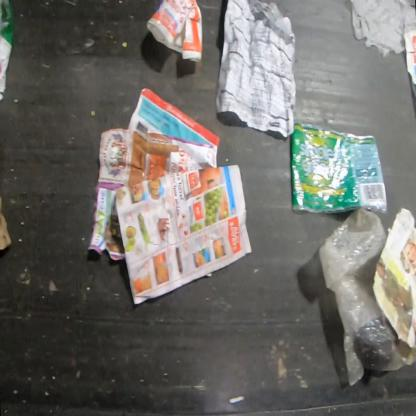cardboard: (0, 206, 13, 254)
rigid_plastic: (144, 0, 204, 64)
soft_plastic: (318, 206, 415, 389), (290, 121, 388, 217), (0, 0, 15, 104)
